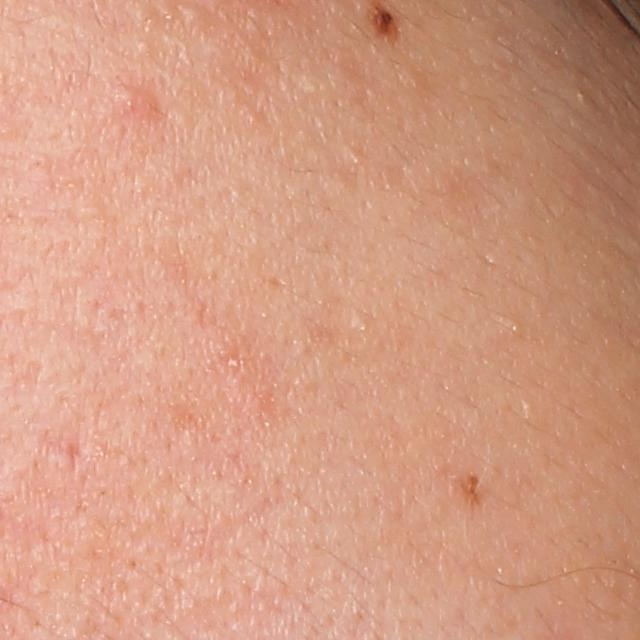nevus: (373, 3, 396, 41), (459, 472, 483, 503)
papule: (117, 83, 147, 110)
